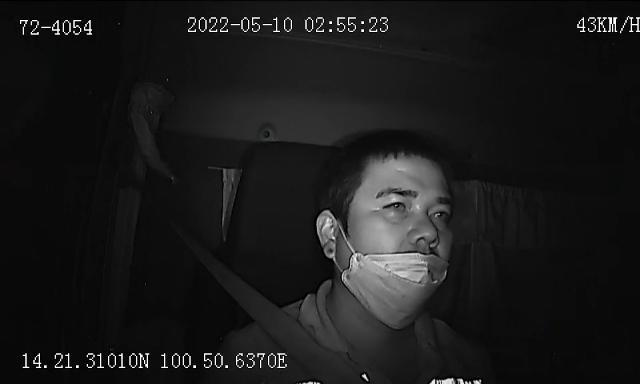SafeDriving: (378, 194, 413, 218), (426, 200, 454, 225)
Seatbelt: (175, 224, 347, 384)
